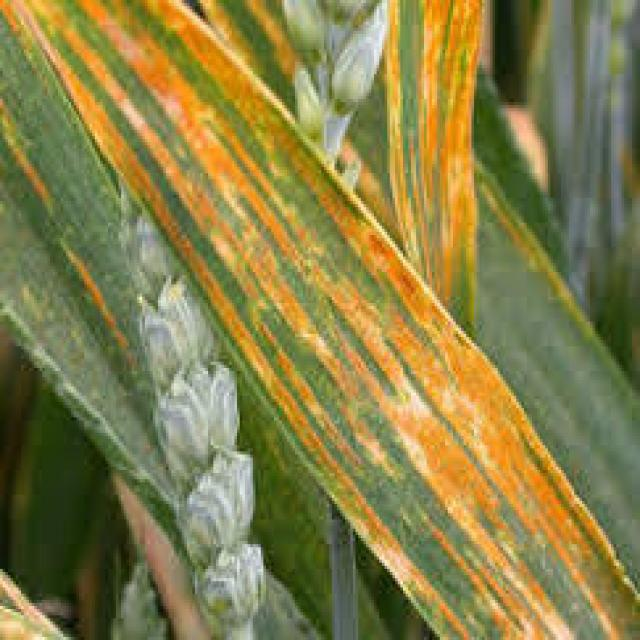wheat-yellowrust: (17, 0, 640, 640), (384, 1, 482, 340)
